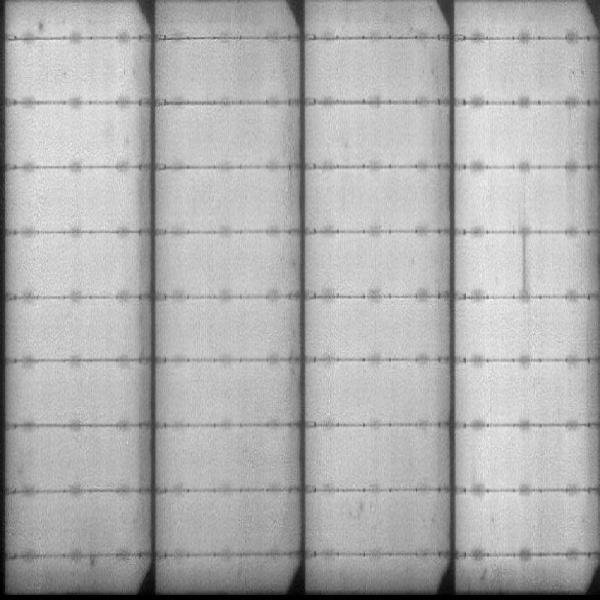scratch: (519, 220, 528, 303)
